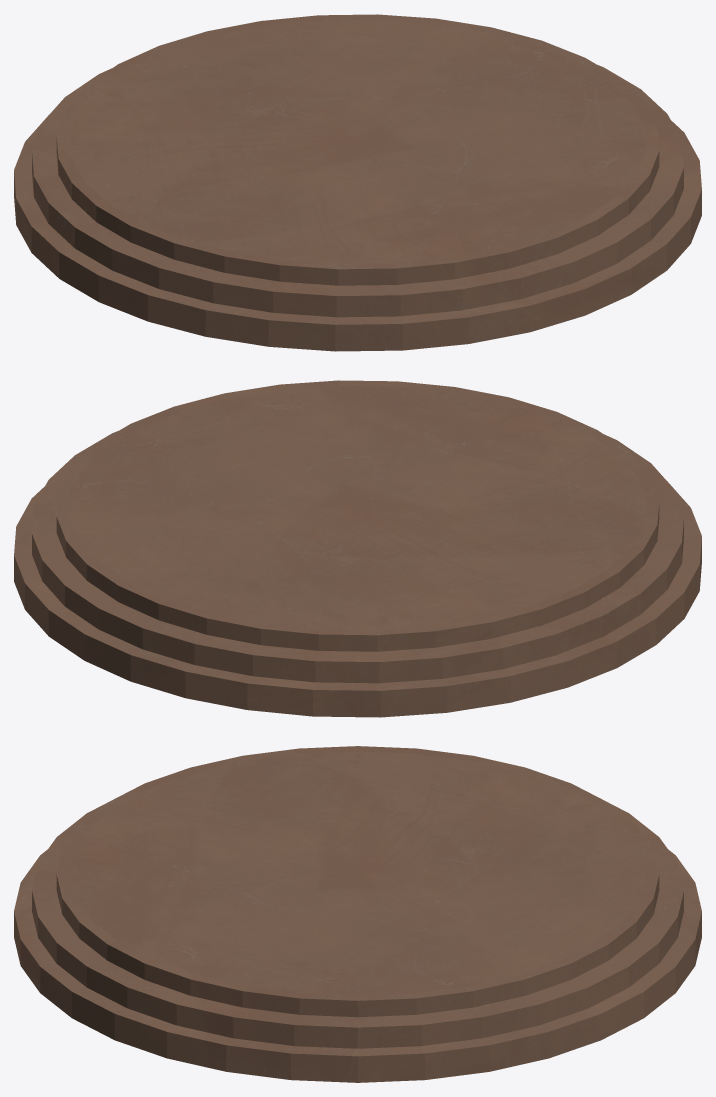
Rendered from terracotta-circle.fbx.
The picture shows the model from 3 angles, top to bottom: view 1: azimuth 30°, elevation 25°; view 2: azimuth 150°, elevation 25°; view 3: azimuth 270°, elevation 25°; orthographic projection.
Parts seen in each view (by area): view 1: Cylinder; view 2: Cylinder; view 3: Cylinder.
Part boxes in pixels (left/top/right/bottom): Cylinder: left=14, top=14, right=701, bottom=351; Cylinder: left=14, top=380, right=701, bottom=717; Cylinder: left=14, top=746, right=701, bottom=1082.
Size of the model in its own units: 4692 by 482 by 4692.
